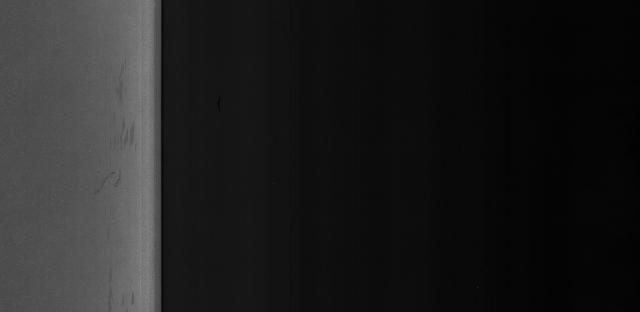water_spot: (105, 58, 141, 175)
